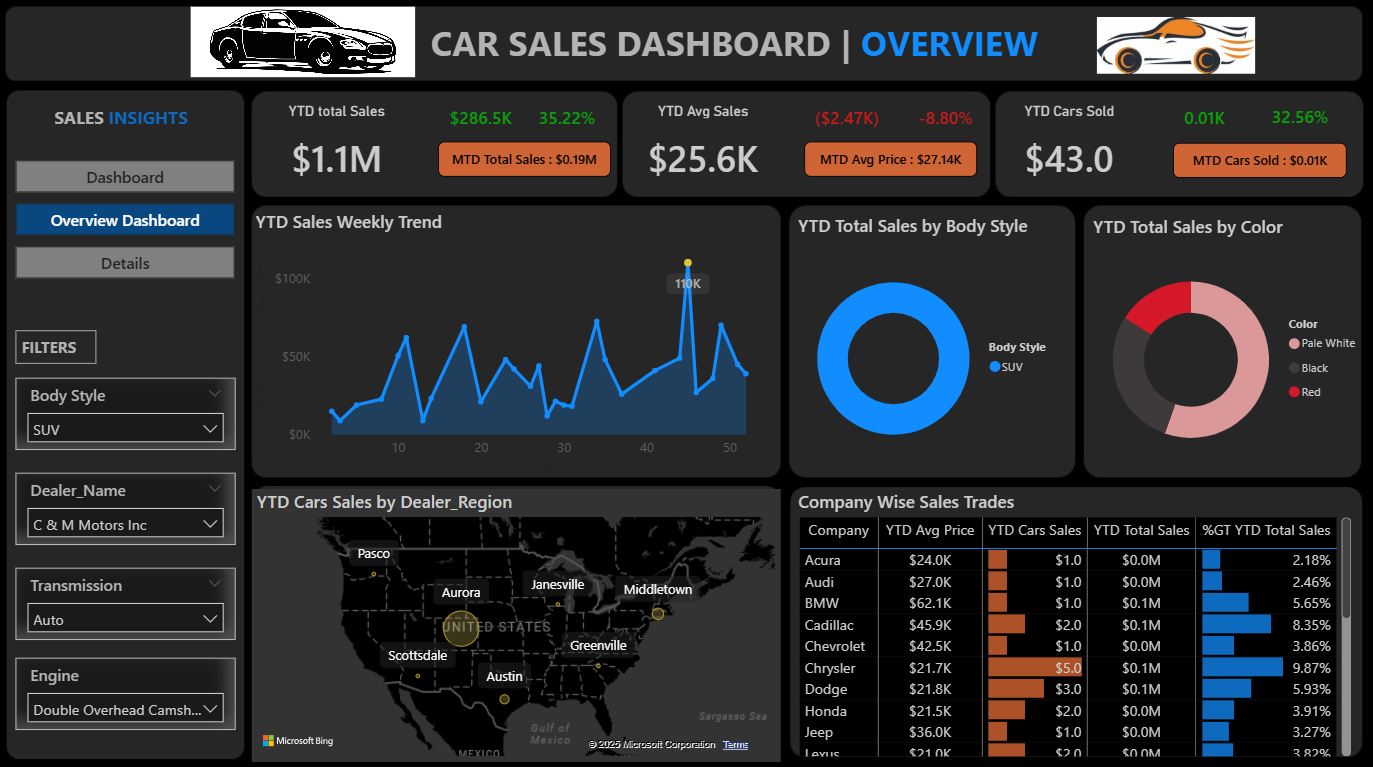

The page's visual inventory and layout, read from the dashboard file:
{"tool":"powerbi","page":{"name":"Overview Dashboard","canvas":[1280,720],"ordinal":1},"visuals":[{"type":"card","title":"YTD total Sales","fields":{"Values":["car_data.YTD Total Sales"]},"box":[189.5,96.5,251.2,89.5],"z":0},{"type":"card","fields":{"Values":["car_data.Sales Difference"]},"box":[397.7,96.5,103.5,31.4],"z":1000},{"type":"card","fields":{"Values":["car_data.YoY Sales Growth"]},"box":[477.9,96.5,103.5,31.4],"z":2000},{"type":"card","title":"MTD Total Sales","fields":{"Values":["car_data.MTD KPI"]},"box":[409,132.6,160.5,32.6],"z":3000},{"type":"card","title":"YTD Avg Sales","fields":{"Values":["car_data.YTD Avg Price"]},"box":[530.2,96.5,251.2,89.5],"z":4000},{"type":"card","fields":{"Values":["car_data.Avg Price Diff"]},"box":[738.4,96.5,103.5,31.4],"z":5000},{"type":"card","fields":{"Values":["car_data.YoY Avg Price Growth"]},"box":[830.2,96.5,103.5,31.4],"z":6000},{"type":"card","title":"MTD Total Sales","fields":{"Values":["car_data.MTD Avg Price KPI"]},"box":[750,132.6,160.5,32.6],"z":7000},{"type":"card","title":"YTD Cars Sold","fields":{"Values":["car_data.YTD Cars Sales"]},"box":[870.9,96.5,251.2,89.5],"z":8000},{"type":"card","fields":{"Values":["car_data.CArs Sold Diff"]},"box":[1070.9,96.5,103.5,31.4],"z":9000},{"type":"card","fields":{"Values":["car_data.YoY Car Sold Growth"]},"box":[1158.9,95.9,104.4,31.6],"z":10000},{"type":"card","title":"MTD Total Sales","fields":{"Values":["car_data.MTD Cars Sold KPI"]},"box":[1093.4,133.5,161.4,32.8],"z":11000},{"type":"areaChart","title":"YTD  Sales Weekly Trend","fields":{"Category":["Calendar Table.Week"],"Y":["Sum(car_data.Price ($))","car_data.Max Point"]},"box":[235.4,195.4,491.5,250],"z":12000},{"type":"donutChart","fields":{"Category":["car_data.Body Style"],"Y":["car_data.YTD Total Sales"]},"box":[739.5,195.3,258.1,250],"z":13000},{"type":"donutChart","title":"YTD Total Sales by Color","fields":{"Y":["car_data.YTD Total Sales"],"Category":["car_data.Color"]},"box":[1009.3,195.3,262.8,250],"z":14000},{"type":"map","fields":{"Category":["car_data.Dealer_Region"],"Size":["car_data.YTD Cars Sales"]},"box":[248.8,459.3,469.8,241.9],"z":15000},{"type":"tableEx","title":"Company Wise Sales Trades","fields":{"Values":["car_data.Company","car_data.YTD Avg Price","car_data.YTD Cars Sales","car_data.YTD Total Sales1","car_data.YTD Total Sales"]},"box":[739.5,455.8,524.4,253.5],"z":16000},{"type":"textbox","box":[397.7,18.6,530.2,48.8],"z":17000},{"type":"slicer","fields":{"Values":["car_data.Body Style"]},"box":[16.3,352.3,204.7,67.4],"z":18000},{"type":"slicer","fields":{"Values":["car_data.Dealer_Name"]},"box":[16.3,440.7,204.7,67.4],"z":19000},{"type":"slicer","fields":{"Values":["car_data.Transmission"]},"box":[16.3,529.1,204.7,67.4],"z":20000},{"type":"slicer","fields":{"Values":["car_data.Engine"]},"box":[16.3,612.8,204.7,67.4],"z":21000},{"type":"textbox","box":[16.3,308.1,75.6,31.4],"z":22000},{"type":"pageNavigator","box":[16.3,150,204.7,110.5],"z":23000},{"type":"textbox","box":[39.5,94.2,150,32.6],"z":24000},{"type":"image","box":[893,0,157,81.4],"z":25000}]}

Visuals, with their boxes in screenshot pixels (x1, y1, x2, y2), scaled from the page's 1280x720 canvas onto the 1373x767 screenshot:
"YTD total Sales" card: rect(203, 103, 473, 198)
card - car_data.Sales Difference: rect(427, 103, 538, 136)
card - car_data.YoY Sales Growth: rect(513, 103, 624, 136)
"MTD Total Sales" card: rect(439, 141, 611, 176)
"YTD Avg Sales" card: rect(569, 103, 838, 198)
card - car_data.Avg Price Diff: rect(792, 103, 903, 136)
card - car_data.YoY Avg Price Growth: rect(891, 103, 1002, 136)
"MTD Total Sales" card: rect(804, 141, 977, 176)
"YTD Cars Sold" card: rect(934, 103, 1204, 198)
card - car_data.CArs Sold Diff: rect(1149, 103, 1260, 136)
card - car_data.YoY Car Sold Growth: rect(1243, 102, 1355, 136)
"MTD Total Sales" card: rect(1173, 142, 1346, 177)
"YTD  Sales Weekly Trend" areaChart: rect(253, 208, 780, 474)
donutChart - car_data.Body Style x car_data.YTD Total Sales: rect(793, 208, 1070, 474)
"YTD Total Sales by Color" donutChart: rect(1083, 208, 1365, 474)
map - car_data.Dealer_Region x car_data.YTD Cars Sales: rect(267, 489, 771, 747)
"Company Wise Sales Trades" tableEx: rect(793, 486, 1356, 756)
textbox: rect(427, 20, 995, 72)
slicer - car_data.Body Style: rect(17, 375, 237, 447)
slicer - car_data.Dealer_Name: rect(17, 469, 237, 541)
slicer - car_data.Transmission: rect(17, 564, 237, 635)
slicer - car_data.Engine: rect(17, 653, 237, 725)
textbox: rect(17, 328, 99, 362)
pageNavigator: rect(17, 160, 237, 278)
textbox: rect(42, 100, 203, 135)
image: rect(958, 0, 1126, 87)
